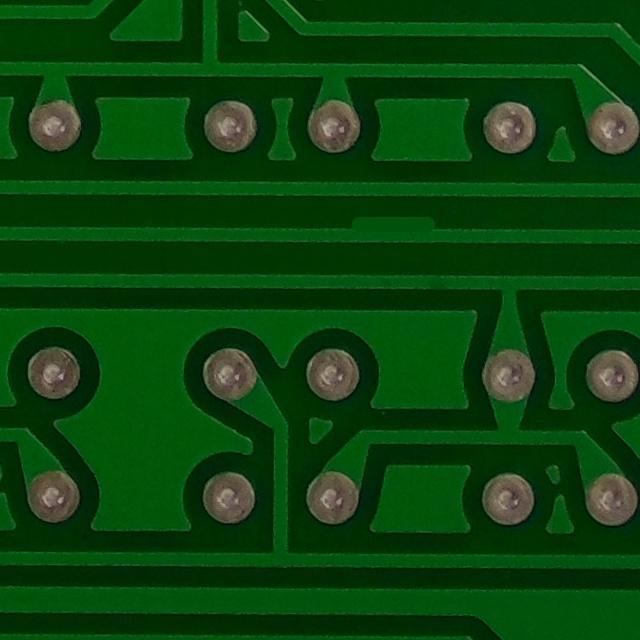spur: (338, 199, 447, 248)
